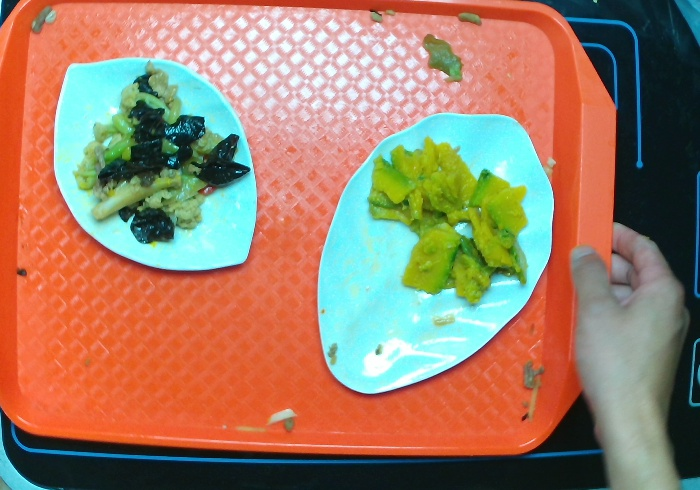RJxy-Bai_Ye_Pan: (312, 106, 554, 402)
RJxy-Da_Du_Pan: (50, 51, 261, 278)
